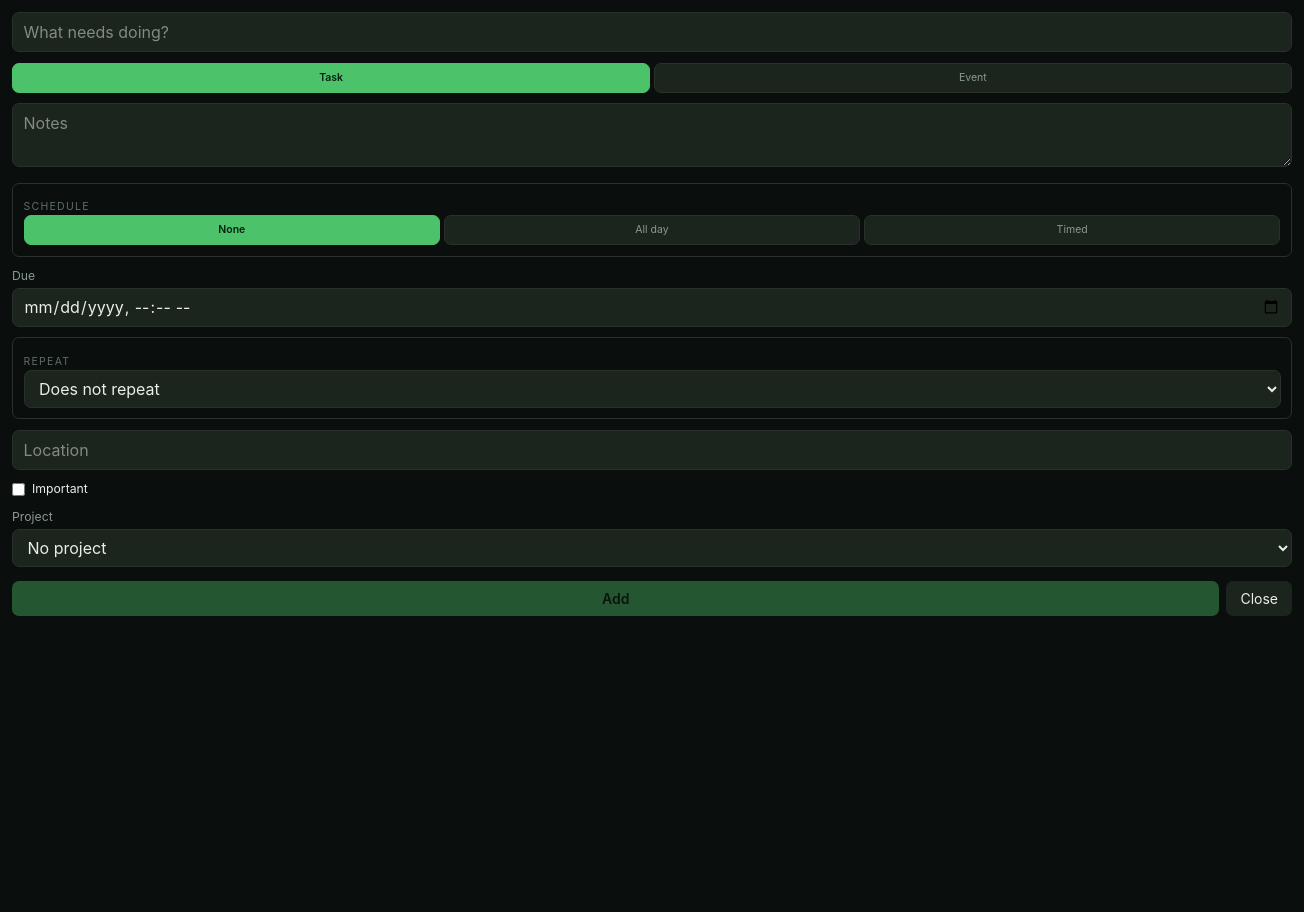
turning on a repeat › fills in a date instead of refusing to save
Type "Take the bins out" into the field with placeholder "What needs doing?" at [652, 32], box [12,12,1292,52]
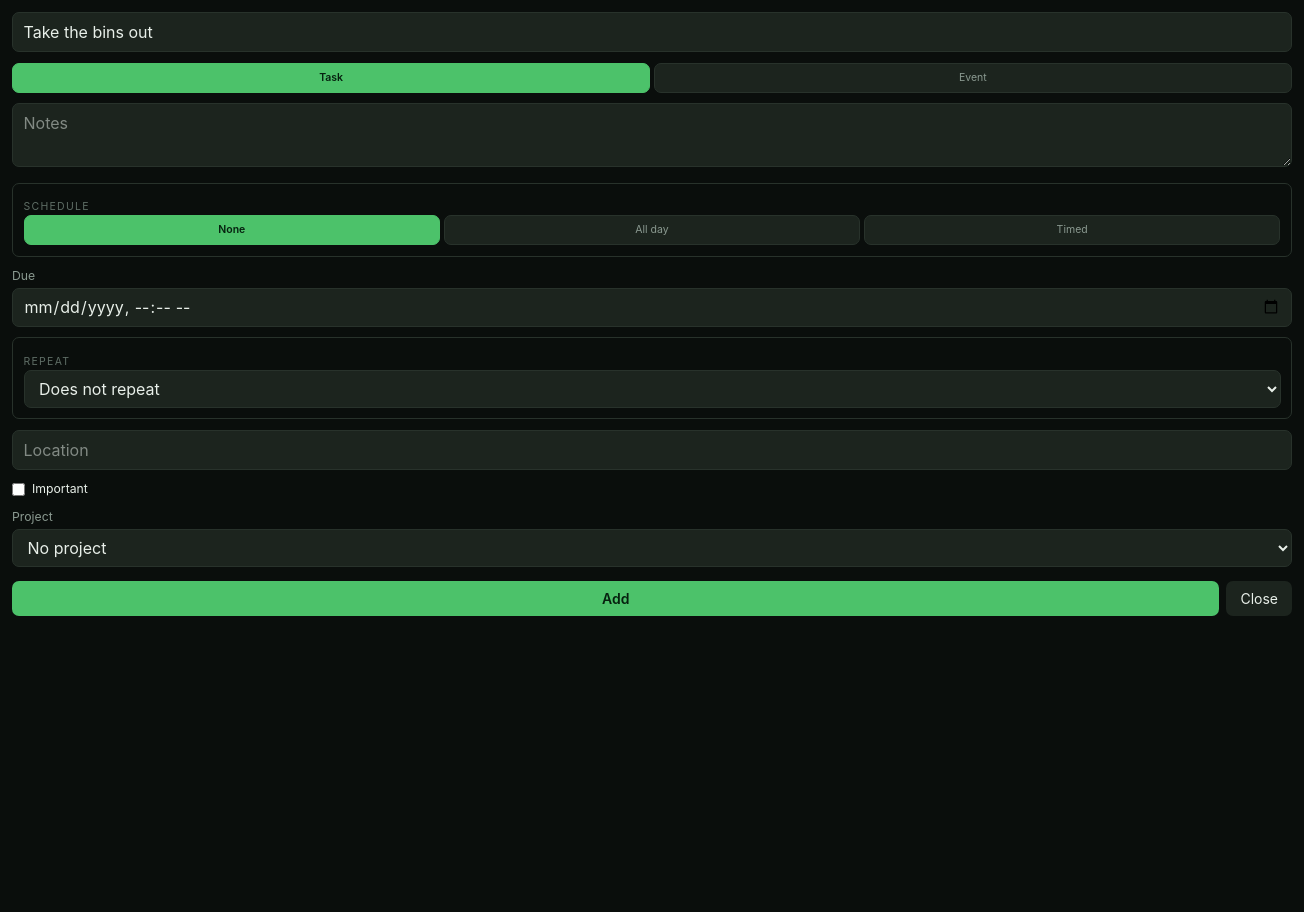
Select "Every day" in the 1st dropdown at [652, 389], box [24,370,1280,408]
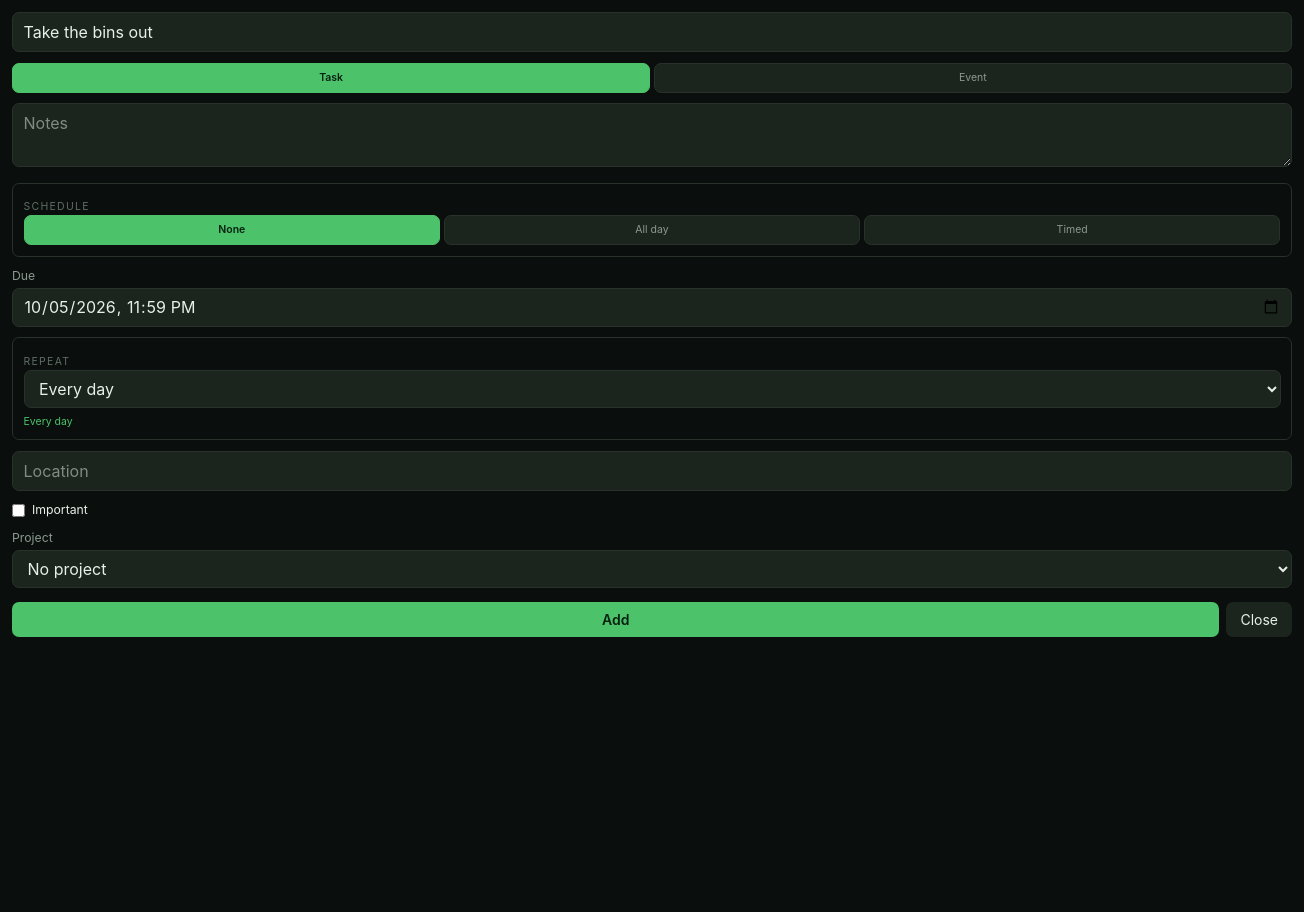
Expected: the button "Add" is enabled, [12,602,1219,637]
Expected: the field labelled "Due" is not empty, [12,288,1292,327]
